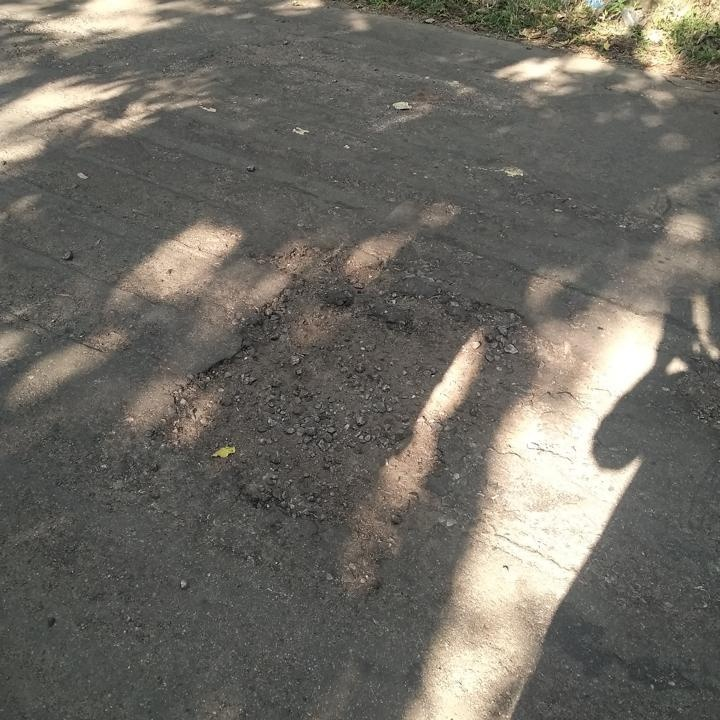pothole: (144, 271, 544, 538)
